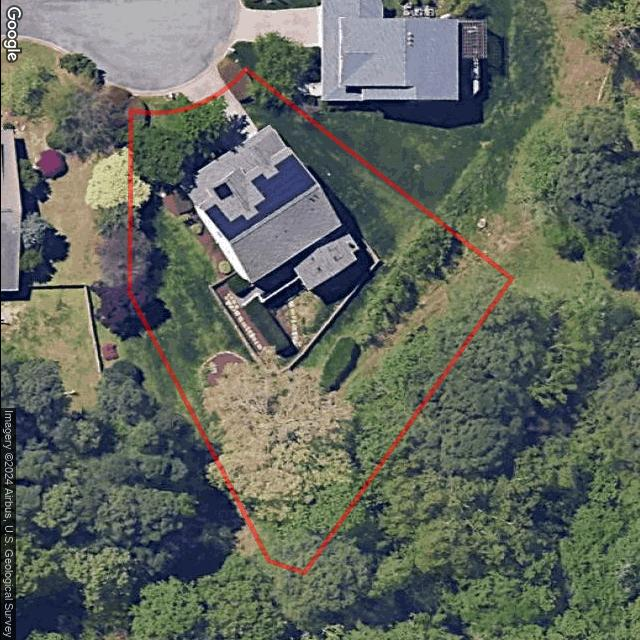Driveway: (192, 88, 257, 152)
Extra-Driveway: (174, 65, 227, 108)
Extra-Lawn: (130, 94, 190, 113), (213, 56, 246, 87)
House: (185, 125, 359, 291)
Lawn: (129, 69, 511, 571)
Other: (202, 223, 510, 571), (146, 175, 377, 380)
